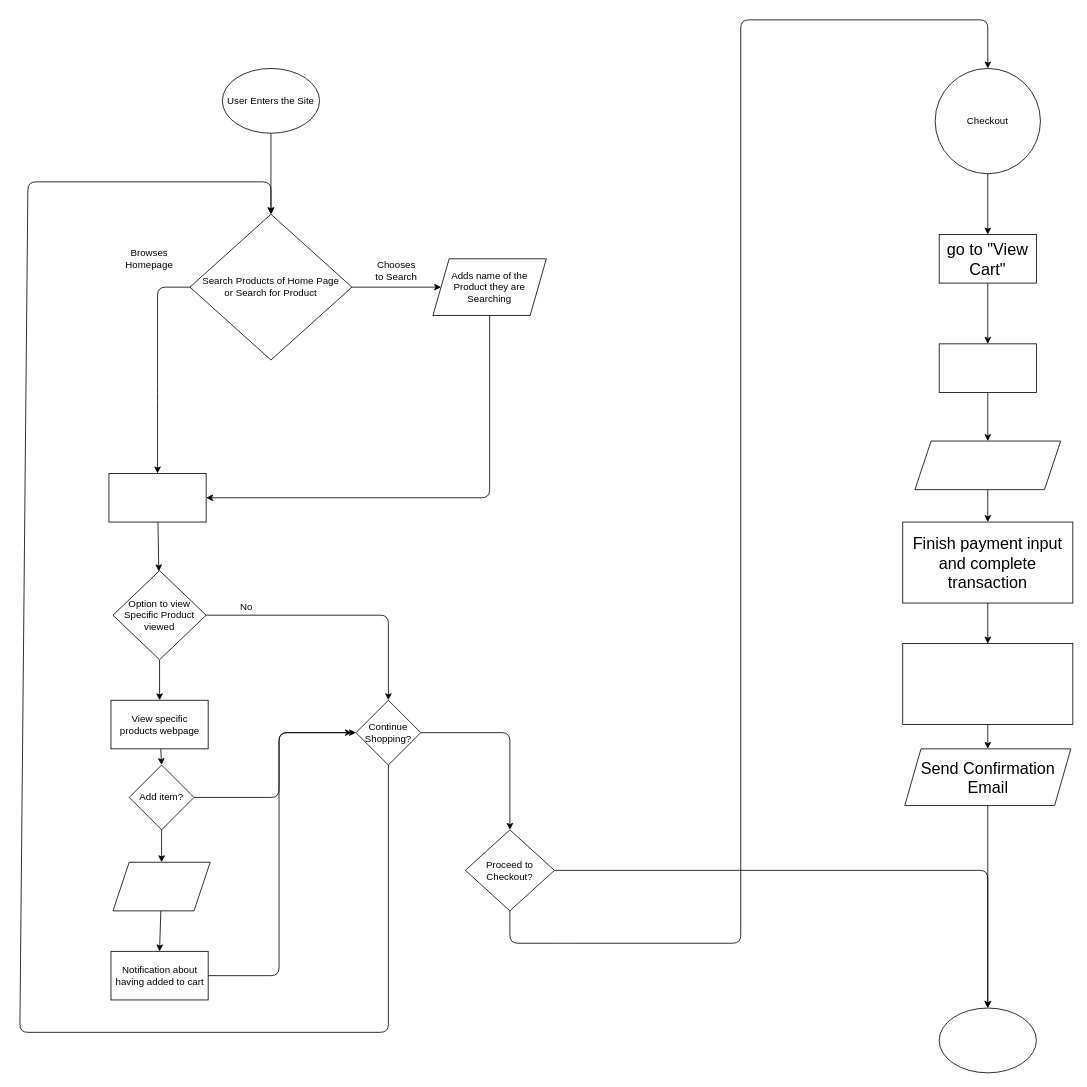
Some shapes in this 1087 by 1087 pixel diagram are drawn without their labels. The shapes that lost their labels are listed below. From the top down, each one's box as (x1, y1, x2, y2) in pixels, then its label:
(938, 343, 1036, 392): go to "View Payment"
(914, 440, 1061, 490): Give payment input
(108, 473, 206, 522): User will review the presented products listed
(902, 643, 1073, 725): Process request and go to "confirmation screen"
(112, 861, 210, 911): Adds the product to cart
(938, 1007, 1036, 1073): Leave Wesbite
